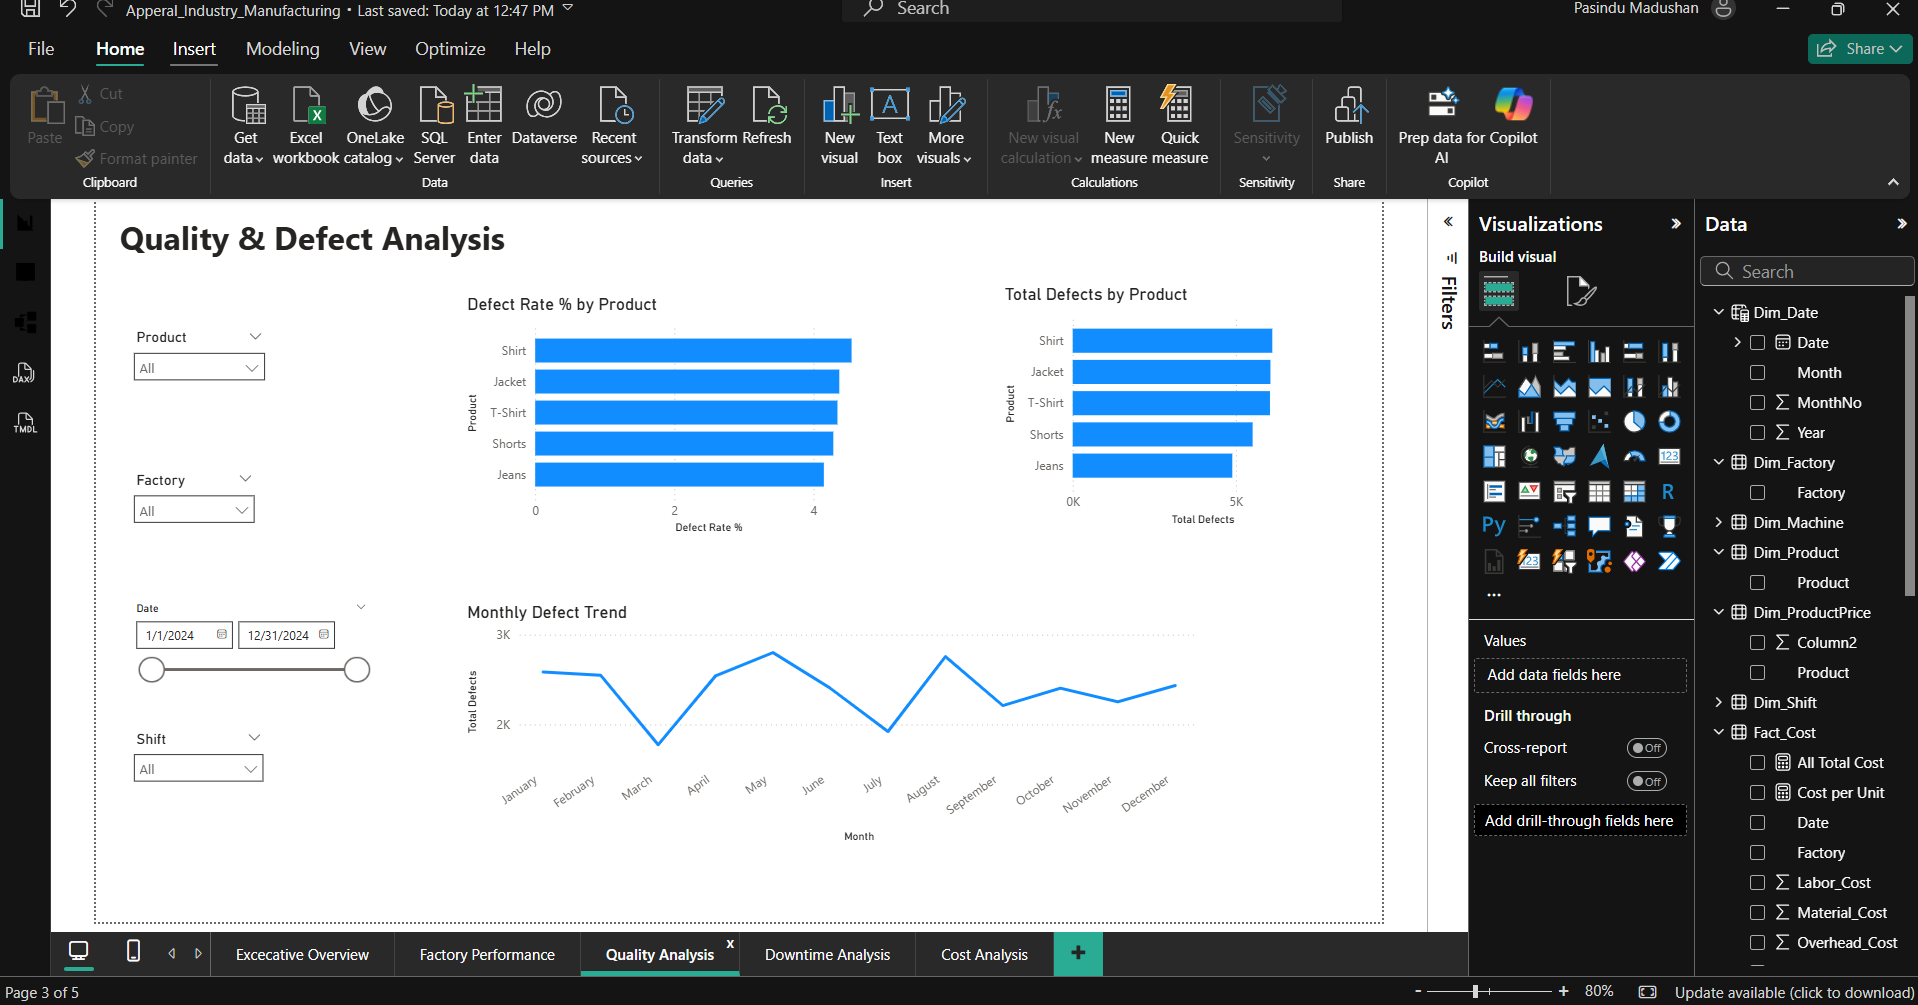

What the dashboard file says about the page in this screenshot:
{"tool":"powerbi","page":{"name":"Quality Analysis","canvas":[1280,720],"ordinal":2},"visuals":[{"type":"slicer","fields":{"Values":["Fact_Production.Date"]},"box":[27.4,395.6,253.8,92.1],"z":0},{"type":"slicer","fields":{"Values":["Dim_Product.Product"]},"box":[27.4,124.4,150.5,92.1],"z":1000},{"type":"slicer","fields":{"Values":["Dim_Factory.Factory"]},"box":[27.4,266.2,140.6,93.3],"z":2000},{"type":"slicer","fields":{"Values":["Dim_Shift.Shift"]},"box":[27.4,523.7,149.3,93.3],"z":3000},{"type":"textbox","box":[18.7,11.2,425.4,54.7],"z":4000},{"type":"barChart","fields":{"Y":["Fact_Quality.Defect Rate %"],"Category":["Dim_Product.Product"]},"box":[364.5,94.5,427.9,243.8],"z":5000},{"type":"barChart","fields":{"Category":["Dim_Product.Product"],"Y":["Fact_Quality.Total Defects"]},"box":[899.4,84.6,344.6,245.1],"z":6000},{"type":"lineChart","title":"Monthly Defect Trend","fields":{"Y":["Fact_Quality.Total Defects"],"Category":["Dim_Date.Date.Variation.Date Hierarchy.Month"]},"box":[364.5,400.6,737.7,245.1],"z":7000}]}

Visuals, with their boxes on the page's 1280x720 design canvas (x1, y1, x2, y2). These are canvas units, not pixel positions in the 1918x1005 screenshot, which may show the page scaled, cropped or inside an application window:
slicer - Fact_Production.Date: <box>27,396,281,488</box>
slicer - Dim_Product.Product: <box>27,124,178,216</box>
slicer - Dim_Factory.Factory: <box>27,266,168,360</box>
slicer - Dim_Shift.Shift: <box>27,524,177,617</box>
textbox: <box>19,11,444,66</box>
barChart - Fact_Quality.Defect Rate % x Dim_Product.Product: <box>364,94,792,338</box>
barChart - Dim_Product.Product x Fact_Quality.Total Defects: <box>899,85,1244,330</box>
"Monthly Defect Trend" lineChart: <box>364,401,1102,646</box>
